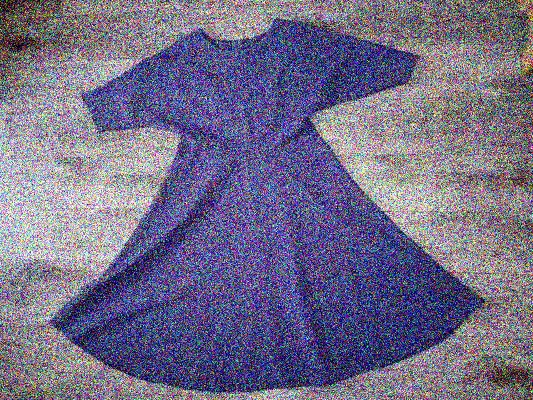Dress: (41, 13, 489, 382)
